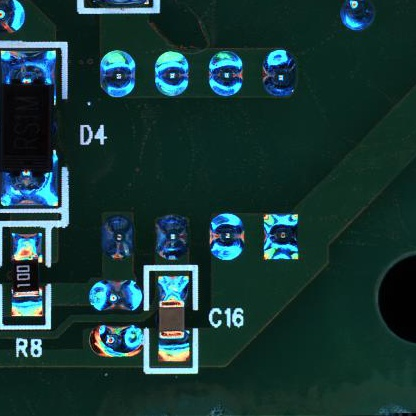spot: (261, 211, 301, 263), (97, 49, 136, 99), (87, 278, 144, 311), (87, 324, 144, 357), (151, 214, 191, 261), (208, 49, 243, 99), (208, 212, 243, 262), (99, 217, 136, 263), (155, 51, 191, 97), (261, 50, 295, 98)
